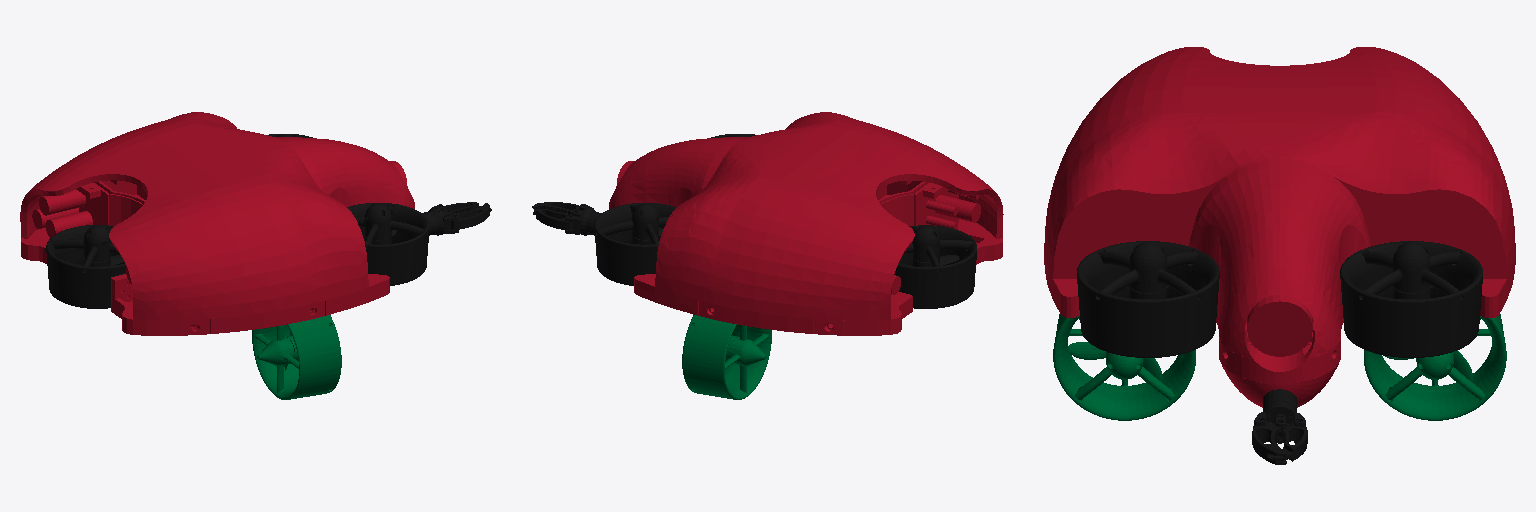
The robot description file, URDF, robot "gupikModel":
<?xml version="1.0" encoding="utf-8"?>
<!-- This URDF was automatically created by SolidWorks to URDF Exporter! Originally created by [author] ([email redacted]) 
     Commit Version: 1.6.0-1-g15f4949  Build Version: 1.6.7594.29634
     For more information, please see http://wiki.ros.org/sw_urdf_exporter -->
<robot
  name="gupikModel">
  <link
    name="base_link">
    <inertial>
      <origin
        xyz="-0.0077901 -0.020288 0.025482"
        rpy="0 0 0" />
      <mass
        value="10.876" />
      <inertia
        ixx="0.18268"
        ixy="1.3979E-05"
        ixz="0.0037324"
        iyy="0.092289"
        iyz="-7.2983E-06"
        izz="0.25536" />
    </inertial>
    <visual>
      <origin
        xyz="0 0 0"
        rpy="0 0 0" />
      <geometry>
        <mesh
          filename="package://gupikModel/meshes/base_link.STL" />
      </geometry>
      <material
        name="">
        <color
          rgba="0.654901961 0.098039216 0.188235294 1" />
      </material>
    </visual>
    <collision>
      <origin
        xyz="0 0 0"
        rpy="0 0 0" />
      <geometry>
        <mesh
          filename="package://gupikModel/meshes/base_link.STL" />
      </geometry>
    </collision>
  </link>
  <link
    name="gripper">
    <inertial>
      <origin
        xyz="0.14991 -0.00013256 -3.9014E-05"
        rpy="0 0 0" />
      <mass
        value="0.11012" />
      <inertia
        ixx="2.2543E-05"
        ixy="-1.2617E-07"
        ixz="3.4385E-08"
        iyy="0.00028052"
        iyz="7.2149E-08"
        izz="0.00028412" />
    </inertial>
    <visual>
      <origin
        xyz="0 0 0"
        rpy="0 0 0" />
      <geometry>
        <mesh
          filename="package://gupikModel/meshes/gripper.STL" />
      </geometry>
      <material
        name="">
        <color
          rgba="0.117647059 0.117647059 0.117647059 1" />
      </material>
    </visual>
    <collision>
      <origin
        xyz="0 0 0"
        rpy="0 0 0" />
      <geometry>
        <mesh
          filename="package://gupikModel/meshes/gripper.STL" />
      </geometry>
    </collision>
  </link>
  <joint
    name="gripper_fixed"
    type="fixed">
    <origin
      xyz="0.15242 -0.021021 -0.058193"
      rpy="0 0 0" />
    <parent
      link="base_link" />
    <child
      link="gripper" />
    <axis
      xyz="0 0 1" />
  </joint>
  <link
    name="pednik_front_left">
    <inertial>
      <origin
        xyz="0.076717 1.6255E-05 0.0021123"
        rpy="0 0 0" />
      <mass
        value="0.41728" />
      <inertia
        ixx="0.00096877"
        ixy="6.7115E-08"
        ixz="-3.547E-07"
        iyy="0.00097755"
        iyz="4.8822E-08"
        izz="0.0016441" />
    </inertial>
    <visual>
      <origin
        xyz="0 0 0"
        rpy="0 0 0" />
      <geometry>
        <mesh
          filename="package://gupikModel/meshes/pednik_front_left.STL" />
      </geometry>
      <material
        name="">
        <color
          rgba="0.117647059 0.117647059 0.117647059 1" />
      </material>
    </visual>
    <collision>
      <origin
        xyz="0 0 0"
        rpy="0 0 0" />
      <geometry>
        <mesh
          filename="package://gupikModel/meshes/pednik_front_left.STL" />
      </geometry>
    </collision>
  </link>
  <joint
    name="pednik_front_left_fixed"
    type="fixed">
    <origin
      xyz="0.086854 0.11898 0.0018077"
      rpy="0 0 0" />
    <parent
      link="base_link" />
    <child
      link="pednik_front_left" />
    <axis
      xyz="0 0 0" />
  </joint>
  <link
    name="pednik_front_right">
    <inertial>
      <origin
        xyz="0.076717 1.4217E-05 0.002113"
        rpy="0 0 0" />
      <mass
        value="0.41728" />
      <inertia
        ixx="0.00096877"
        ixy="6.7116E-08"
        ixz="-3.547E-07"
        iyy="0.00097755"
        iyz="4.8822E-08"
        izz="0.0016441" />
    </inertial>
    <visual>
      <origin
        xyz="0 0 0"
        rpy="0 0 0" />
      <geometry>
        <mesh
          filename="package://gupikModel/meshes/pednik_front_right.STL" />
      </geometry>
      <material
        name="">
        <color
          rgba="0.117647059 0.117647059 0.117647059 1" />
      </material>
    </visual>
    <collision>
      <origin
        xyz="0 0 0"
        rpy="0 0 0" />
      <geometry>
        <mesh
          filename="package://gupikModel/meshes/pednik_front_right.STL" />
      </geometry>
    </collision>
  </link>
  <joint
    name="pednik_front_right_fixed"
    type="fixed">
    <origin
      xyz="0.086854 -0.16102 0.0018071"
      rpy="0 0 0" />
    <parent
      link="base_link" />
    <child
      link="pednik_front_right" />
    <axis
      xyz="0 0 0" />
  </joint>
  <link
    name="pednik_back">
    <inertial>
      <origin
        xyz="0.076717 1.6255E-05 0.0021123"
        rpy="0 0 0" />
      <mass
        value="0.41728" />
      <inertia
        ixx="0.00096877"
        ixy="6.7114E-08"
        ixz="-3.547E-07"
        iyy="0.00097755"
        iyz="4.8822E-08"
        izz="0.0016441" />
    </inertial>
    <visual>
      <origin
        xyz="0 0 0"
        rpy="0 0 0" />
      <geometry>
        <mesh
          filename="package://gupikModel/meshes/pednik_back.STL" />
      </geometry>
      <material
        name="">
        <color
          rgba="0.117647059 0.117647059 0.117647059 1" />
      </material>
    </visual>
    <collision>
      <origin
        xyz="0 0 0"
        rpy="0 0 0" />
      <geometry>
        <mesh
          filename="package://gupikModel/meshes/pednik_back.STL" />
      </geometry>
    </collision>
  </link>
  <joint
    name="pednik_back_fixed"
    type="fixed">
    <origin
      xyz="-0.23548 -0.097521 0.0018077"
      rpy="0 0 1.5708" />
    <parent
      link="base_link" />
    <child
      link="pednik_back" />
    <axis
      xyz="0 0 0" />
  </joint>
  <link
    name="pednik_bot_left">
    <inertial>
      <origin
        xyz="0.076717 1.5825E-05 0.0021123"
        rpy="0 0 0" />
      <mass
        value="0.41728" />
      <inertia
        ixx="0.00096877"
        ixy="6.7192E-08"
        ixz="-3.5468E-07"
        iyy="0.00097755"
        iyz="-8.7027E-08"
        izz="0.0016441" />
    </inertial>
    <visual>
      <origin
        xyz="0 0 0"
        rpy="0 0 0" />
      <geometry>
        <mesh
          filename="package://gupikModel/meshes/pednik_bot_left.STL" />
      </geometry>
      <material
        name="">
        <color
          rgba="0 0.411764706 0.235294118 1" />
      </material>
    </visual>
    <collision>
      <origin
        xyz="0 0 0"
        rpy="0 0 0" />
      <geometry>
        <mesh
          filename="package://gupikModel/meshes/pednik_bot_left.STL" />
      </geometry>
    </collision>
  </link>
  <joint
    name="pednik_bot_left_revolute"
    type="revolute">
    <origin
      xyz="0.0088545 0.14398 -0.043193"
      rpy="0 1.5708 0" />
    <parent
      link="base_link" />
    <child
      link="pednik_bot_left" />
    <axis
      xyz="-1 0 0" />
    <limit
      lower="-1000.0"
      upper="1000.0"
      effort="0"
      velocity="0" />
  </joint>
  <link
    name="pednik_bot_right">
    <inertial>
      <origin
        xyz="0.076717 1.5825E-05 0.0021123"
        rpy="0 0 0" />
      <mass
        value="0.41728" />
      <inertia
        ixx="0.00096877"
        ixy="6.7193E-08"
        ixz="-3.5469E-07"
        iyy="0.00097755"
        iyz="-8.7027E-08"
        izz="0.0016441" />
    </inertial>
    <visual>
      <origin
        xyz="0 0 0"
        rpy="0 0 0" />
      <geometry>
        <mesh
          filename="package://gupikModel/meshes/pednik_bot_right.STL" />
      </geometry>
      <material
        name="">
        <color
          rgba="0 0.411764706 0.235294118 1" />
      </material>
    </visual>
    <collision>
      <origin
        xyz="0 0 0"
        rpy="0 0 0" />
      <geometry>
        <mesh
          filename="package://gupikModel/meshes/pednik_bot_right.STL" />
      </geometry>
    </collision>
  </link>
  <joint
    name="pednik_bot_right_revolute"
    type="revolute">
    <origin
      xyz="0.0088545 -0.18602 -0.043193"
      rpy="0 1.5708 0" />
    <parent
      link="base_link" />
    <child
      link="pednik_bot_right" />
    <axis
      xyz="-1 0 0" />
    <limit
      lower="-1000.0"
      upper="1000.0"
      effort="0"
      velocity="0" />
  </joint>

  <!-- Camera -->
  <link name="mainCamera">
    <collision>
      <origin xyz="0 0 0" rpy="0 0 0"/>
    </collision>

    <visual>
      <origin xyz="0 0 0" rpy="0 0 0"/>
      <geometry>
    <box size="0.01 0.01 0.01"/>
      </geometry>
    </visual>

    <inertial>
      <mass value="1e-5" />
    </inertial>
  </link>

  <joint name="mainCamera_joint" type="fixed">
    <axis xyz="1 0 0" />
    <origin xyz="0.24 -0.021021 0.021021" rpy="0 0.129154365 0"/>
    <parent link="base_link"/>
    <child link="mainCamera"/>
  </joint>

  <gazebo reference="mainCamera">
    <sensor type="camera" name="camera1">
      <update_rate>30.0</update_rate>
      <camera name="main">
        <horizontal_fov>1.11701072</horizontal_fov>
        <image>
          <width>1920</width>
          <height>1080</height>
          <format>R8G8B8</format>
        </image>
        <clip>
          <near>0.02</near>
          <far>50</far>
        </clip>
        <noise>
          <type>gaussian</type>
          <!-- Noise is sampled independently per pixel on each frame.
               That pixel's noise value is added to each of its color
               channels, which at that point lie in the range [0,1]. -->
          <mean>0.0</mean>
          <stddev>0.007</stddev>
        </noise>
      </camera>
      <plugin name="camera_controller" filename="libgazebo_ros_camera.so">
        <alwaysOn>true</alwaysOn>
        <updateRate>0.0</updateRate>
        <cameraName>gupik/camera/mainCamera</cameraName>
        <imageTopicName>image_raw</imageTopicName>
        <cameraInfoTopicName>camera_info</cameraInfoTopicName>
        <frameName>camera_link</frameName>
        <hackBaseline>0.07</hackBaseline>
        <distortionK1>0.0</distortionK1>
        <distortionK2>0.0</distortionK2>
        <distortionK3>0.0</distortionK3>
        <distortionT1>0.0</distortionT1>
        <distortionT2>0.0</distortionT2>
      </plugin>
    </sensor>
  </gazebo>


  <gazebo>
  <static>false</static>
    <plugin name="gupikModel" filename="gupikModel/libgupikModel.so"/>
  </gazebo>

  <gazebo reference="base_link">
    <material>Gazebo/Red</material>
  </gazebo>

  <gazebo reference="gripper">
      <material>Gazebo/FlatBlack</material>
  </gazebo>

  <gazebo reference="pednik_front_left">
      <material>Gazebo/FlatBlack</material>
  </gazebo>

  <gazebo reference="pednik_front_right">
      <material>Gazebo/FlatBlack</material>
  </gazebo>

  <gazebo reference="pednik_back">
      <material>Gazebo/FlatBlack</material>
  </gazebo>

  <gazebo reference="pednik_bot_left">
      <material>Gazebo/Green</material>
  </gazebo>

  <gazebo reference="pednik_bot_right">
      <material>Gazebo/Green</material>
  </gazebo>
  
</robot>

--- Render facts (derived) ---
The picture shows the robot from 3 angles, left to right: view 1: azimuth 30°, elevation 25°; view 2: azimuth 150°, elevation 25°; view 3: azimuth 270°, elevation 25°; orthographic projection.
Robot: gupikModel — 8 links, 7 joints (2 revolute, 5 fixed); root link base_link; default pose: every joint at zero.
Visible links, largest first — view 1: base_link, pednik_bot_right, pednik_back, pednik_front_right, gripper; view 2: base_link, pednik_bot_left, pednik_back, pednik_front_left, gripper; view 3: base_link, pednik_front_left, pednik_front_right, pednik_bot_right, pednik_bot_left, gripper.
Boxes of the visible links, left/top/right/bottom form: base_link: left=20, top=112, right=414, bottom=335; pednik_bot_right: left=252, top=315, right=341, bottom=399; pednik_back: left=46, top=225, right=126, bottom=308; pednik_front_right: left=347, top=203, right=429, bottom=285; gripper: left=422, top=202, right=491, bottom=235; base_link: left=609, top=112, right=1003, bottom=335; pednik_bot_left: left=682, top=315, right=771, bottom=399; pednik_back: left=894, top=225, right=976, bottom=308; pednik_front_left: left=594, top=203, right=676, bottom=285; gripper: left=532, top=202, right=601, bottom=235; base_link: left=1044, top=47, right=1515, bottom=407; pednik_front_left: left=1340, top=241, right=1482, bottom=357; pednik_front_right: left=1077, top=241, right=1219, bottom=357; pednik_bot_right: left=1053, top=314, right=1195, bottom=420; pednik_bot_left: left=1364, top=314, right=1506, bottom=420; gripper: left=1252, top=389, right=1307, bottom=464.
Bounding box of the posed robot: 0.7465 × 0.5008 × 0.3382 m (x, y, z).
7 mesh visuals loaded from 7 distinct referenced files (7 binary STL).